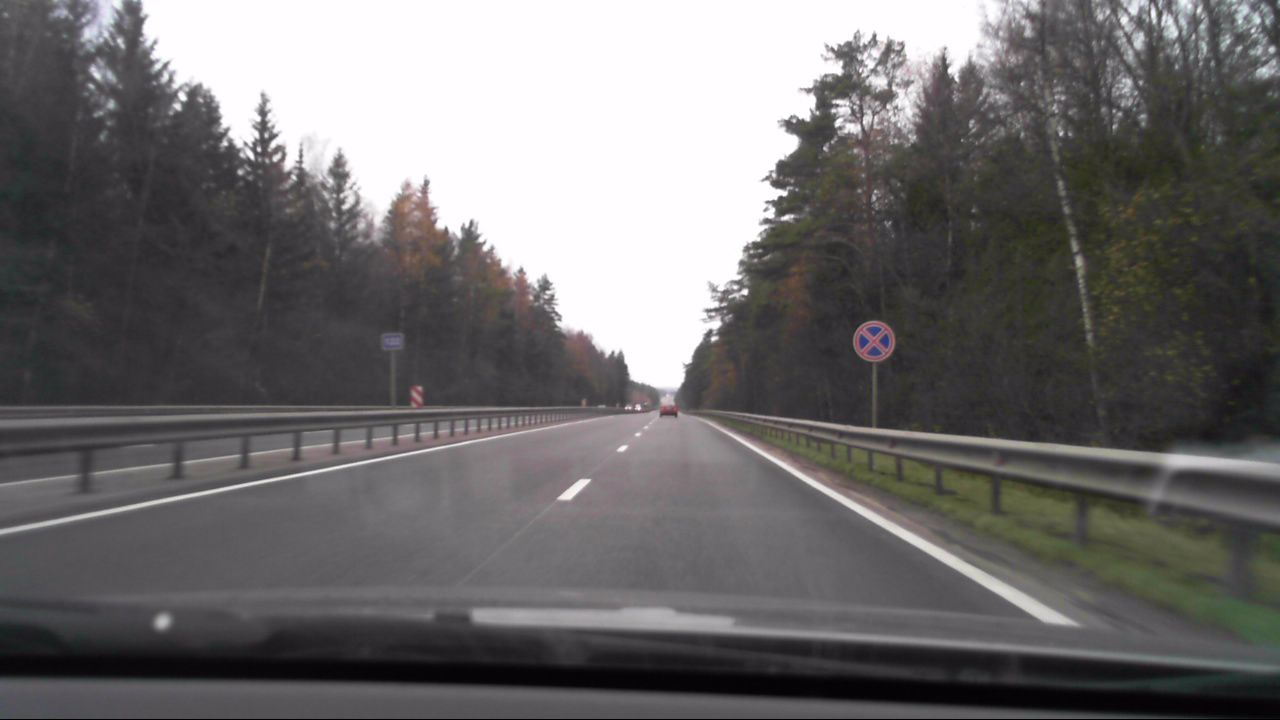No Parking: (853, 319, 897, 363)
